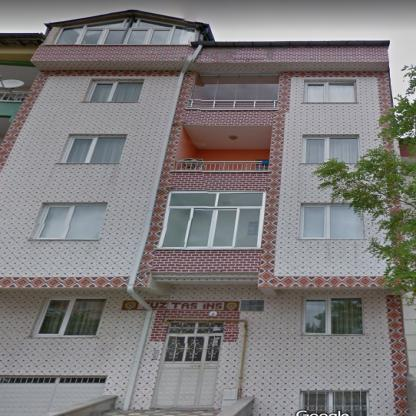door: (149, 334, 220, 408), (1, 375, 103, 415)
window: (157, 191, 264, 249), (53, 18, 198, 46), (189, 73, 277, 106), (31, 298, 105, 337), (34, 204, 106, 240), (301, 297, 365, 335), (300, 204, 363, 239), (62, 136, 126, 163), (300, 391, 368, 415), (302, 137, 358, 163), (84, 80, 144, 101), (304, 82, 356, 102), (170, 321, 222, 332)
